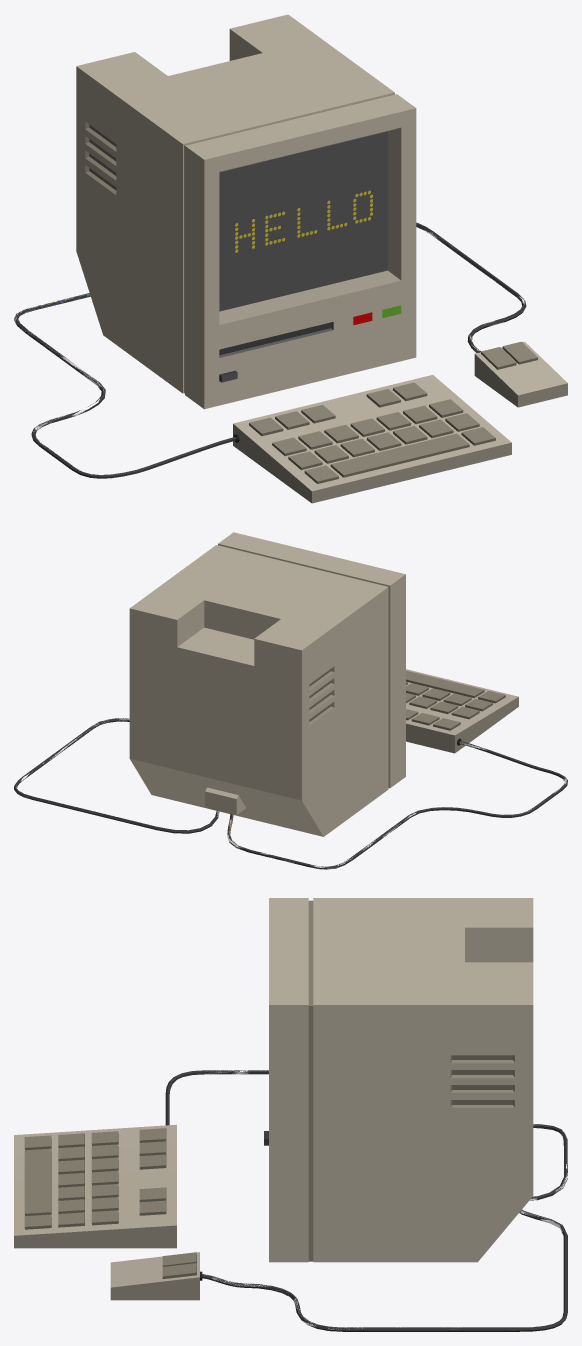
3 renders of one model, top to bottom at view 1: azimuth 30°, elevation 25°; view 2: azimuth 150°, elevation 25°; view 3: azimuth 270°, elevation 25°, orthographic. The views are drawn at different scales.
Parts seen in each view (by area): view 1: monitor, keyboard.001, keyboard, mouse.001, cabel1, cabel2, mouse, monitor.001; view 2: monitor, keyboard, keyboard.001, cabel1, cabel2; view 3: monitor, keyboard.001, keyboard, mouse.001, cabel2, cabel1, mouse.
Boxes of the visible parts, x1=… form: monitor: x1=76, y1=14, x2=416, y2=409; keyboard.001: x1=233, y1=375, x2=511, y2=503; keyboard: x1=249, y1=382, x2=495, y2=483; mouse.001: x1=474, y1=341, x2=567, y2=407; cabel1: x1=14, y1=293, x2=236, y2=478; cabel2: x1=416, y1=222, x2=526, y2=352; mouse: x1=481, y1=341, x2=537, y2=369; monitor.001: x1=235, y1=190, x2=372, y2=252; monitor: x1=129, y1=532, x2=405, y2=836; keyboard: x1=406, y1=670, x2=505, y2=730; keyboard.001: x1=406, y1=669, x2=518, y2=753; cabel1: x1=227, y1=741, x2=567, y2=869; cabel2: x1=14, y1=718, x2=219, y2=833; monitor: x1=264, y1=898, x2=533, y2=1262; keyboard.001: x1=14, y1=1124, x2=176, y2=1248; keyboard: x1=24, y1=1128, x2=166, y2=1229; mouse.001: x1=110, y1=1252, x2=199, y2=1300; cabel2: x1=202, y1=1209, x2=567, y2=1331; cabel1: x1=165, y1=1070, x2=567, y2=1200; mouse: x1=162, y1=1252, x2=196, y2=1278.
Bounding box in the file's own units: 3.03 × 1.41 × 2.74.
1 material, 1 textured.
